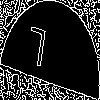L: (25, 25, 47, 77)
